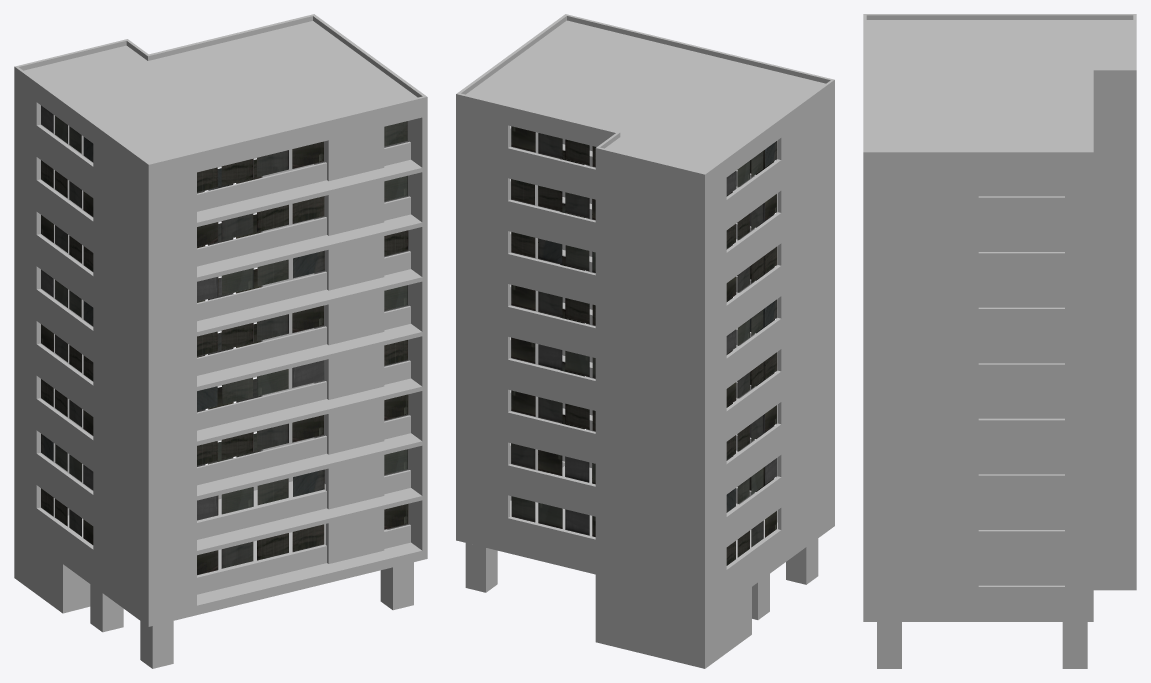
3 renders of one model, left to right at view 1: azimuth 30°, elevation 25°; view 2: azimuth 150°, elevation 25°; view 3: azimuth 270°, elevation 25°, orthographic. The views are drawn at different scales.
Parts seen in each view (by area): view 1: BB-90; view 2: BB-90; view 3: BB-90.
Boxes of the visible parts, box(x1,y1,x2,y2) form: BB-90: box(14, 14, 427, 668); BB-90: box(456, 14, 834, 668); BB-90: box(863, 14, 1136, 668).
Size of what is drawn, in the model's own units: 16 by 28.06 by 13.35.
